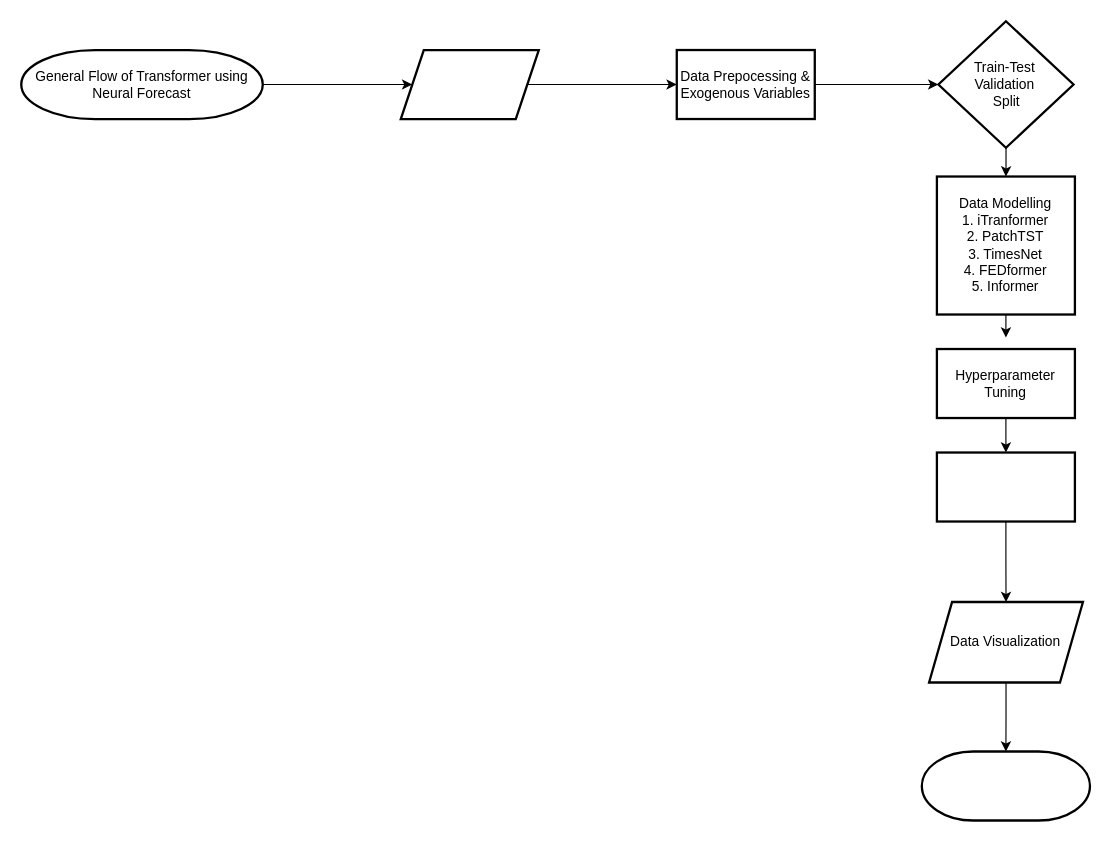
The diagram is 1111 pixels wide and 841 high, and some of its shapes have lost their labels. The centre of each missing label's shape, as x and y in pixels:
Data Input: (469,84)
Model Evaluation: (1005,486)
Plot dan Nilai Matriks: (1005,785)
